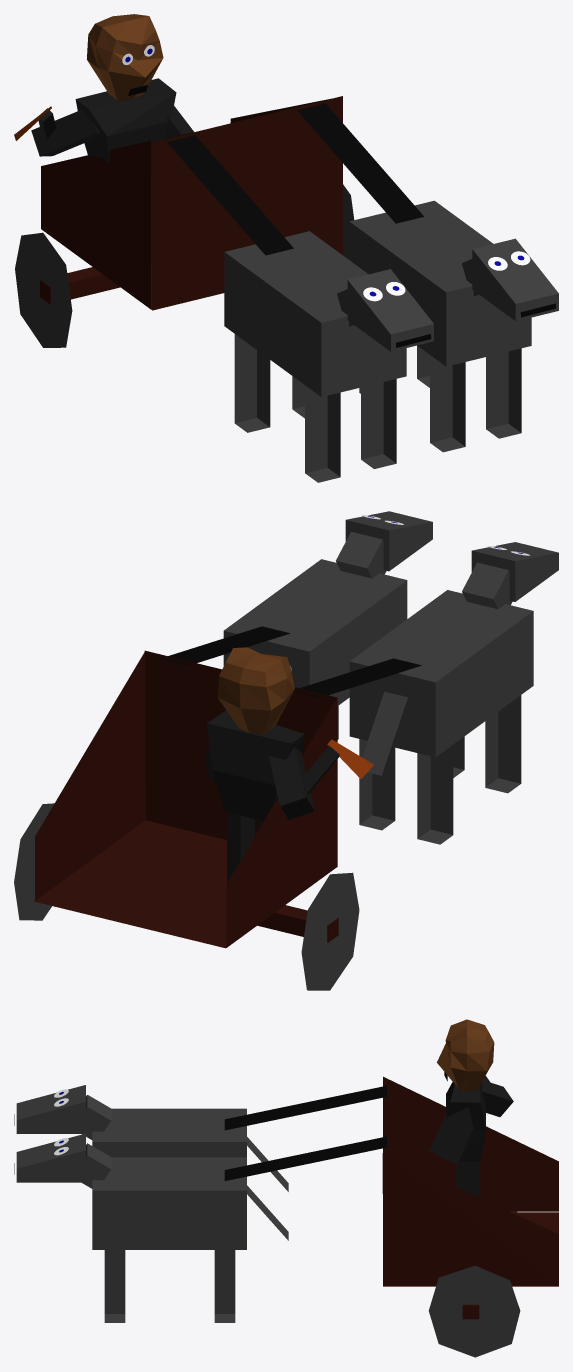
File: lightchariot1fr.obj
The picture shows the model from 3 angles, top to bottom: view 1: azimuth 30°, elevation 25°; view 2: azimuth 150°, elevation 25°; view 3: azimuth 270°, elevation 25°; orthographic projection. The views are drawn at different scales.
Parts seen in each view (by area): view 1: Plane.005_Plane.006, Cube.015_Cube.017, Cube.006_Cube.009, Plane.003, Plane.007_Plane.008, Cube, Cube.001, Cube.021_Cube.023, Cube.014_Cube.016, Plane.012_Plane.013, Plane.013_Plane.014, Cube.019_Cube.021 (+6 smaller); view 2: Cube.015_Cube.017, Plane.002, Plane.005_Plane.006, Plane.004, Cube.006_Cube.009, Plane.003, Cube.001, Cube, Plane.007_Plane.008, Cube.016_Cube.018, Cube.019_Cube.021, Cube.014_Cube.016 (+13 smaller); view 3: Plane.004, Cube.006_Cube.009, Plane.003, Cube.015_Cube.017, Plane.006_Plane.007, Cube, Cube.014_Cube.016, Cube.021_Cube.023, Plane.012_Plane.013, Plane.013_Plane.014, Cube.001, Cube.010_Cube.012 (+7 smaller).
Boxes of the visible parts, bbox=[...] form: Plane.005_Plane.006: bbox=[152, 96, 342, 310]; Cube.015_Cube.017: bbox=[224, 231, 406, 396]; Cube.006_Cube.009: bbox=[349, 200, 531, 366]; Plane.003: bbox=[41, 140, 150, 309]; Plane.007_Plane.008: bbox=[15, 232, 72, 347]; Cube: bbox=[87, 14, 163, 101]; Cube.001: bbox=[75, 78, 176, 178]; Cube.021_Cube.023: bbox=[347, 269, 433, 351]; Cube.014_Cube.016: bbox=[472, 238, 558, 321]; Plane.012_Plane.013: bbox=[164, 132, 293, 255]; Plane.013_Plane.014: bbox=[294, 100, 424, 223]; Cube.019_Cube.021: bbox=[305, 385, 340, 482]; Cube.015_Cube.017: bbox=[349, 590, 533, 757]; Plane.002: bbox=[33, 820, 226, 948]; Plane.005_Plane.006: bbox=[144, 650, 336, 839]; Plane.004: bbox=[35, 652, 145, 900]; Cube.006_Cube.009: bbox=[223, 559, 407, 705]; Plane.003: bbox=[226, 696, 337, 947]; Cube.001: bbox=[206, 710, 304, 821]; Cube: bbox=[217, 647, 294, 734]; Plane.007_Plane.008: bbox=[301, 872, 359, 990]; Cube.016_Cube.018: bbox=[417, 745, 453, 844]; Cube.019_Cube.021: bbox=[485, 695, 521, 793]; Cube.014_Cube.016: bbox=[345, 511, 432, 571]; Plane.004: bbox=[382, 1153, 558, 1285]; Cube.006_Cube.009: bbox=[92, 1157, 246, 1249]; Plane.003: bbox=[383, 1076, 558, 1211]; Cube.015_Cube.017: bbox=[92, 1108, 246, 1157]; Plane.006_Plane.007: bbox=[428, 1265, 520, 1357]; Cube: bbox=[437, 1019, 494, 1091]; Cube.014_Cube.016: bbox=[16, 1133, 85, 1182]; Cube.021_Cube.023: bbox=[16, 1085, 85, 1133]; Plane.012_Plane.013: bbox=[224, 1085, 386, 1130]; Plane.013_Plane.014: bbox=[224, 1136, 386, 1180]; Cube.001: bbox=[446, 1082, 485, 1161]; Cube.010_Cube.012: bbox=[214, 1250, 235, 1322].
Size of the model in its own units: 8.17 by 7.5 by 14.9.
